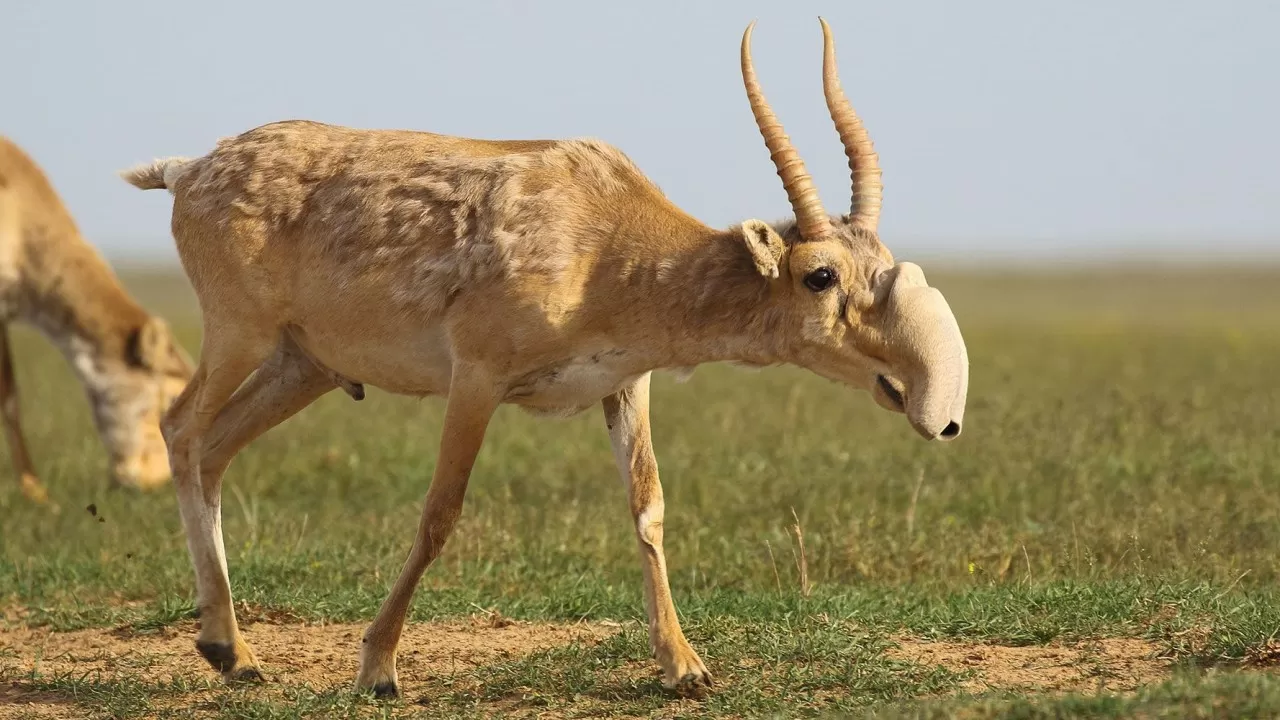saiga: (120, 16, 976, 686)
